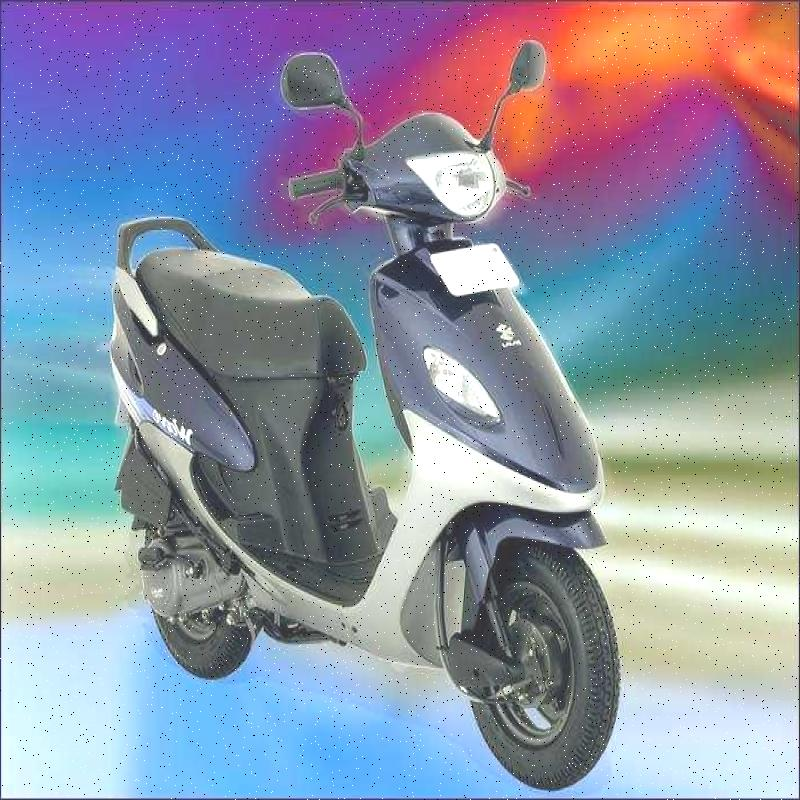bike: (91, 32, 682, 773)
